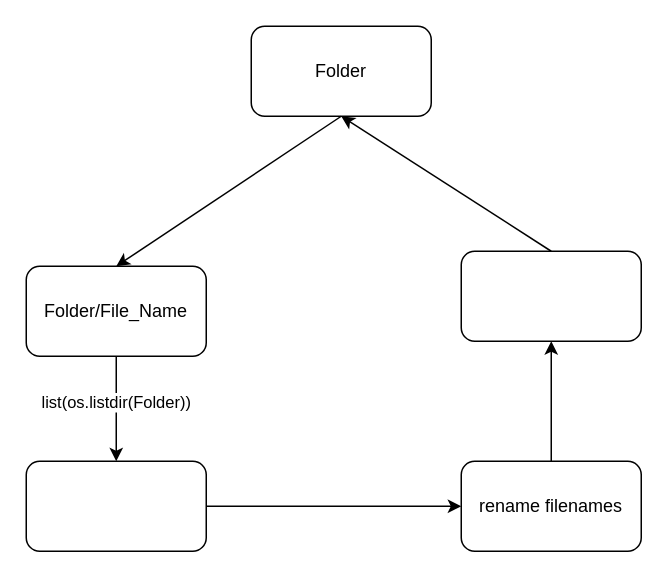
The diagram is 668 pixels wide and 578 high, and some of its shapes have lost their labels. The shapes that lost their labels are listed below. From the top down, each one's box as (x1, y1, x2, y2) in pixels, then its label:
(460, 250, 641, 341): replace filenames
(25, 460, 206, 551): list of filenames
